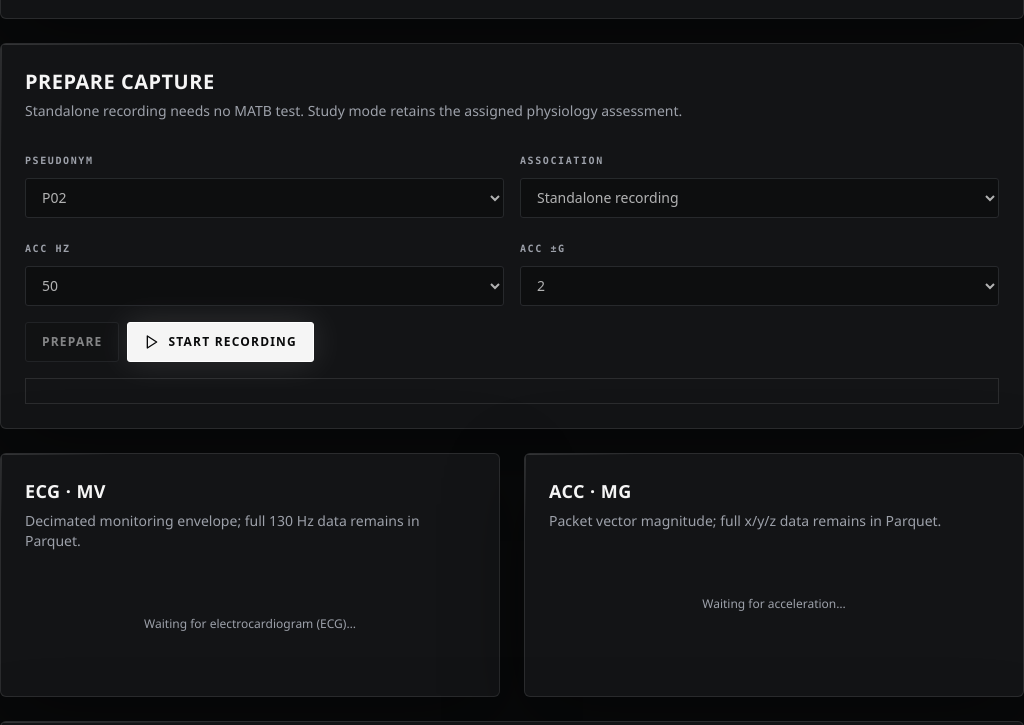
Test: keeps the prepared capture and explains a station-blocked start
(page scrolled)
What coordinates should you click on to do the following:
click the button "Start recording"
I would click on:
 (221, 342)
Its box is [127,322,314,362].
(page scrolled)
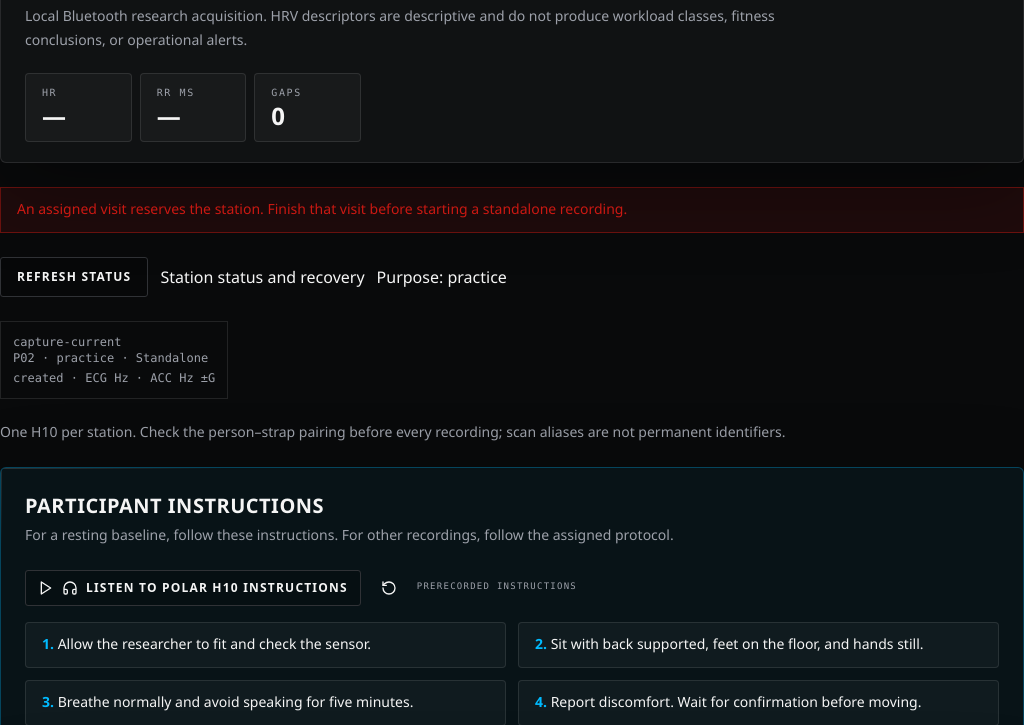
Check: the text "capture-current" is shown, box [13,334,121,348]
Check: the text "An assigned visit reserves the station" is shown, box [17,200,627,218]
